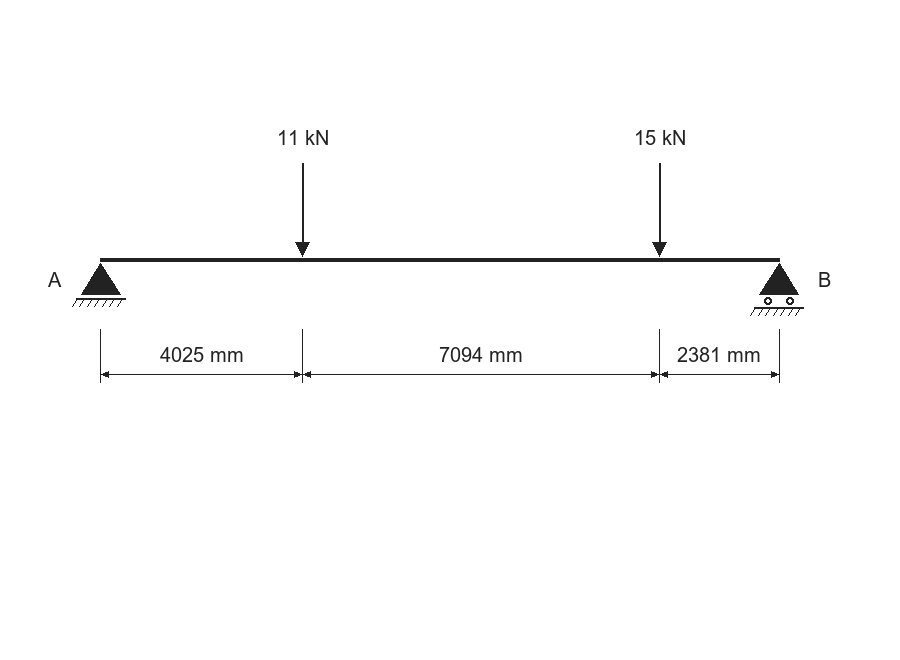pin_support: (72, 263, 126, 307)
point_load: (295, 163, 310, 257), (652, 163, 667, 257)
roller_support: (750, 263, 804, 316)
